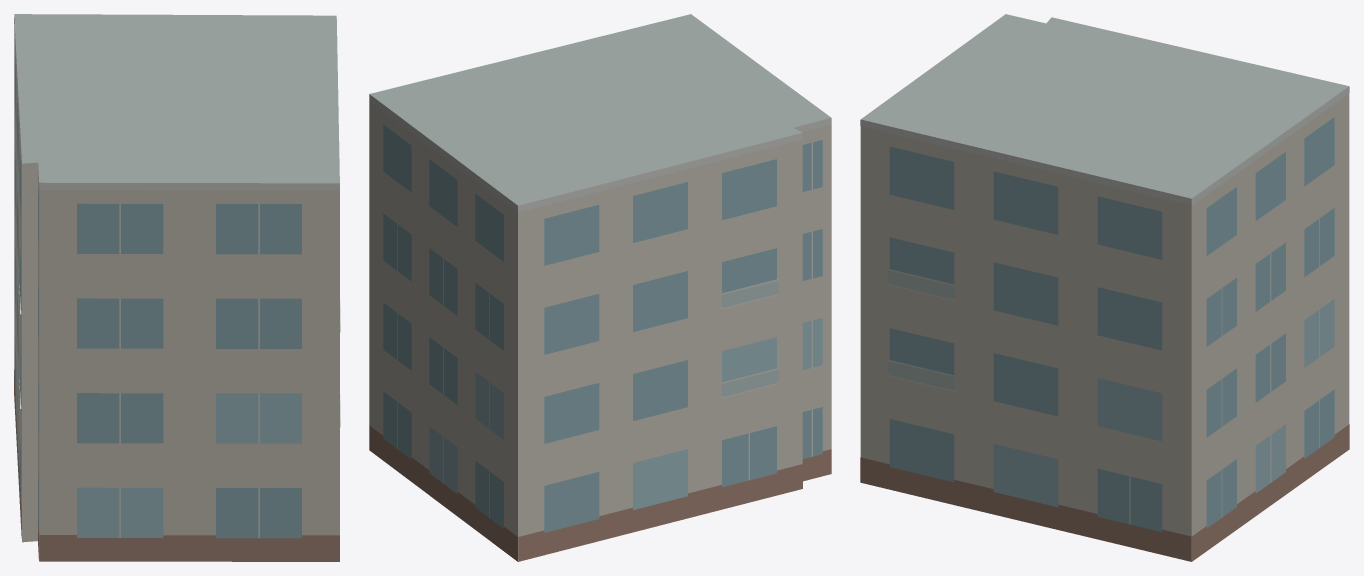
File: survey-upis-32655023.glb
The picture shows the model from 3 angles, left to right: view 1: azimuth 30°, elevation 25°; view 2: azimuth 150°, elevation 25°; view 3: azimuth 270°, elevation 25°; orthographic projection. The views are drawn at different scales.
Visible parts, largest first — view 1: survey-upis-32655023.tmp; view 2: survey-upis-32655023.tmp; view 3: survey-upis-32655023.tmp.
Boxes of the visible parts, bbox=[...] form: survey-upis-32655023.tmp: bbox=[14, 14, 340, 561]; survey-upis-32655023.tmp: bbox=[369, 14, 831, 561]; survey-upis-32655023.tmp: bbox=[860, 14, 1349, 561].
Bounding box in the file's own units: 13.97 × 12.8 × 15.62.
